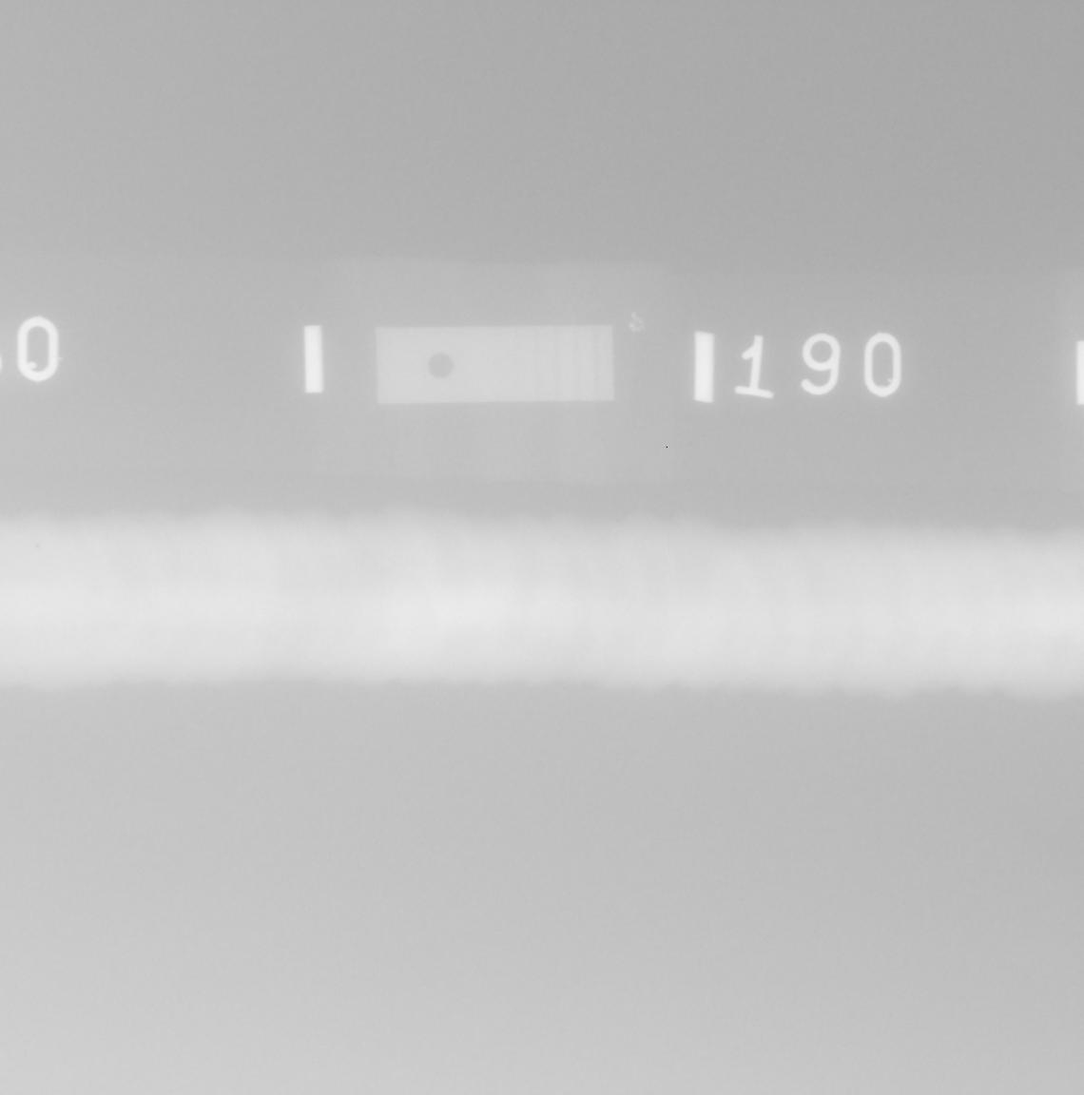Pore/Porosity: (91, 586, 102, 595), (34, 543, 40, 548)
Reference Standard 1: (375, 324, 614, 403)
